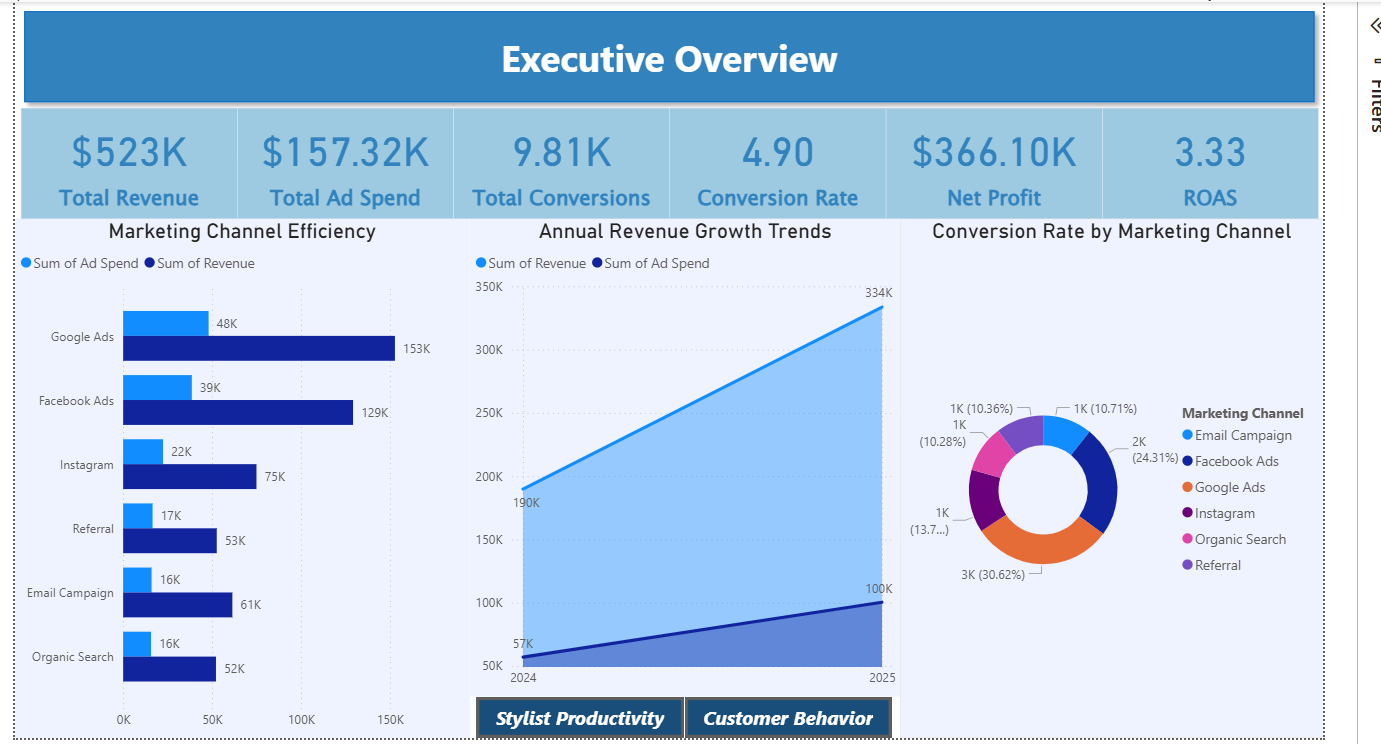

The page's visual inventory and layout, read from the dashboard file:
{"tool":"powerbi","page":{"name":"Executive Overview","canvas":[1280,720],"ordinal":0},"visuals":[{"type":"areaChart","title":"Annual Revenue Growth Trends","fields":{"Category":["Sheet1.Date.Variation.Date Hierarchy.Year","Sheet1.Date.Variation.Date Hierarchy.Quarter","Sheet1.Date.Variation.Date Hierarchy.Month","Sheet1.Date.Variation.Date Hierarchy.Day"],"Y":["Sum(Sheet1.Revenue)","Sum(Sheet1.Ad Spend)"]},"box":[444.6,211.3,421.3,467.9],"z":0},{"type":"clusteredBarChart","title":"Marketing Channel Efficiency","fields":{"Category":["Sheet1.Marketing Channel"],"Y":["Sum(Sheet1.Ad Spend)","Sum(Sheet1.Revenue)"]},"box":[0,211.6,445.1,508.7],"z":1000},{"type":"donutChart","title":"Conversion Rate by Marketing Channel","fields":{"Series":["Sheet1.Marketing Channel"],"Y":["Sum(Sheet1.Conversions)"]},"box":[865.8,211.6,414.5,508.7],"z":2000},{"type":"actionButton","box":[451.7,680.1,203.4,39.9],"z":3000},{"type":"actionButton","box":[655.1,680.1,202.1,39.9],"z":4000},{"type":"shape","box":[0,0,1280.3,107],"z":5000},{"type":"card","fields":{"Values":["Sheet1.Total Revenue"]},"box":[6.3,103.5,211.6,107.6],"z":6000},{"type":"card","fields":{"Values":["Sheet1.Total Ad Spend"]},"box":[217.9,103.5,211.6,107.6],"z":7000},{"type":"card","fields":{"Values":["Sheet1.Conversion Rate"]},"box":[641,103.5,211.6,107.6],"z":8000},{"type":"card","fields":{"Values":["Sheet1.Total Conversions"]},"box":[429.4,103.5,211.6,107.6],"z":9000},{"type":"card","fields":{"Values":["Sheet1.Net Profit"]},"box":[852.5,103.5,211.6,107.6],"z":10000},{"type":"card","fields":{"Values":["Sheet1.ROAS"]},"box":[1064.1,103.5,211.6,107.6],"z":11000}]}

Visuals, with their boxes on the page's 1280x720 design canvas (x1, y1, x2, y2). These are canvas units, not pixel positions in the 1381x744 screenshot, which may show the page scaled, cropped or inside an application window:
"Annual Revenue Growth Trends" areaChart: 445,211,866,679
"Marketing Channel Efficiency" clusteredBarChart: 0,212,445,720
"Conversion Rate by Marketing Channel" donutChart: 866,212,1280,720
actionButton: 452,680,655,720
actionButton: 655,680,857,720
shape: 0,0,1280,107
card - Sheet1.Total Revenue: 6,104,218,211
card - Sheet1.Total Ad Spend: 218,104,430,211
card - Sheet1.Conversion Rate: 641,104,853,211
card - Sheet1.Total Conversions: 429,104,641,211
card - Sheet1.Net Profit: 852,104,1064,211
card - Sheet1.ROAS: 1064,104,1276,211
